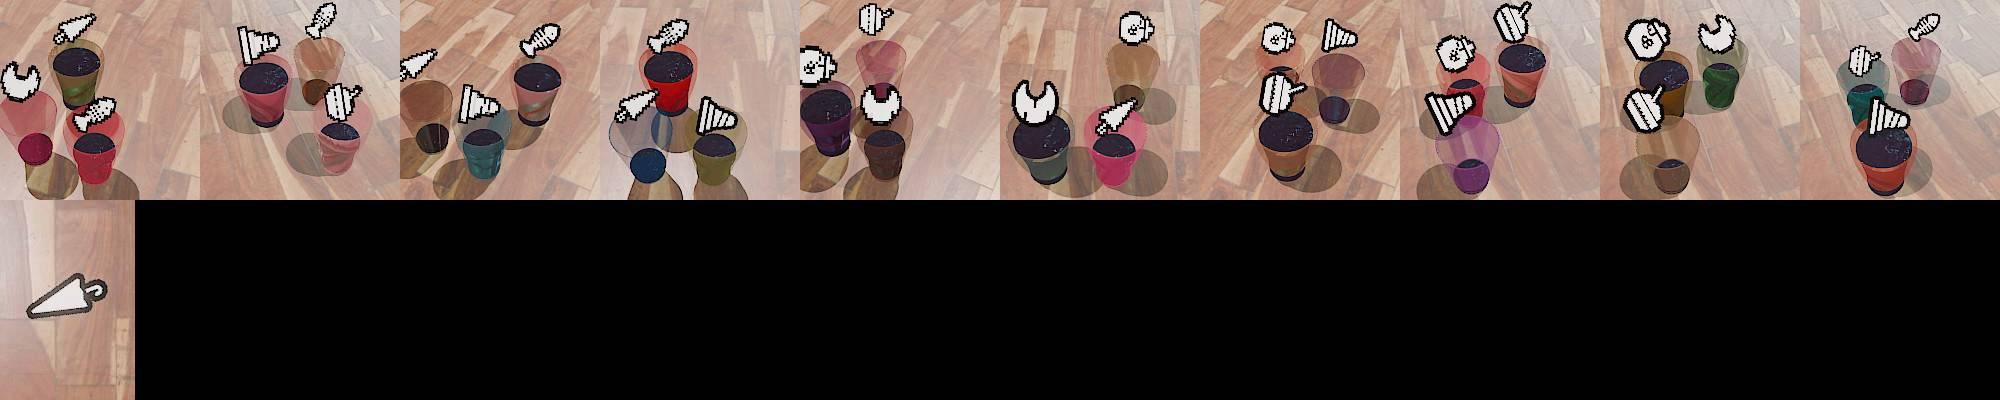icon: (23, 271, 114, 317), (1423, 89, 1476, 136), (1011, 78, 1060, 126), (1258, 71, 1309, 116), (1622, 87, 1667, 134), (1624, 18, 1671, 61), (858, 83, 903, 125), (236, 24, 282, 65), (457, 83, 503, 124), (1492, 1, 1534, 45), (1094, 97, 1140, 136), (70, 97, 120, 132), (321, 82, 365, 122), (798, 46, 839, 89), (614, 85, 659, 124), (1436, 33, 1478, 74), (0, 61, 42, 102), (695, 94, 739, 134), (645, 17, 690, 55), (518, 22, 562, 60), (1698, 13, 1736, 55), (1869, 97, 1909, 135), (52, 11, 97, 46), (1320, 17, 1358, 52), (1117, 10, 1156, 46), (401, 48, 439, 82), (857, 3, 895, 36), (1260, 22, 1296, 56), (305, 1, 338, 38), (1847, 46, 1881, 76), (1909, 11, 1943, 42)
